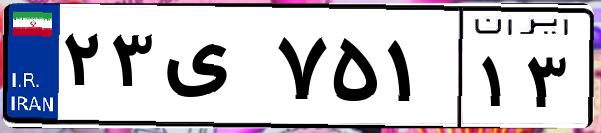1: (385, 28, 445, 110), (475, 38, 525, 113)
2: (57, 26, 110, 100)
3: (525, 38, 570, 115), (110, 28, 158, 98)
5: (330, 28, 385, 110)
7: (270, 28, 330, 110)
ی: (158, 20, 270, 120)
